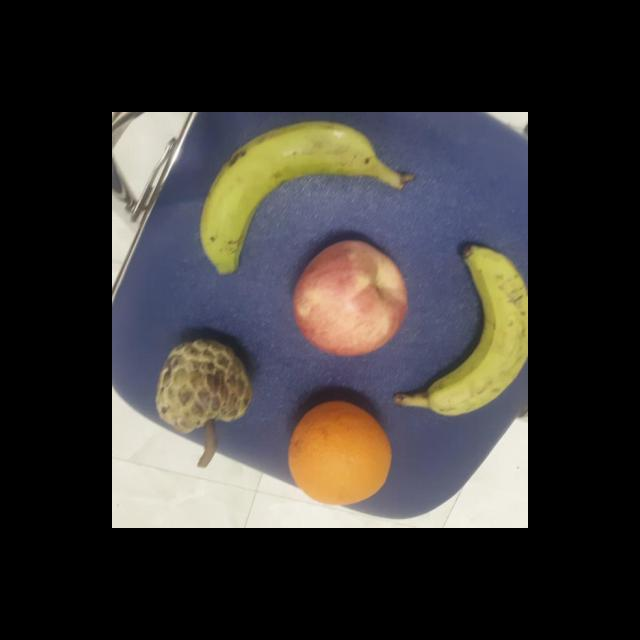Sakya fruit: (146, 339, 268, 439)
apple: (290, 236, 420, 360)
banana: (199, 118, 416, 276), (390, 240, 528, 420)
orange: (281, 392, 398, 508)
